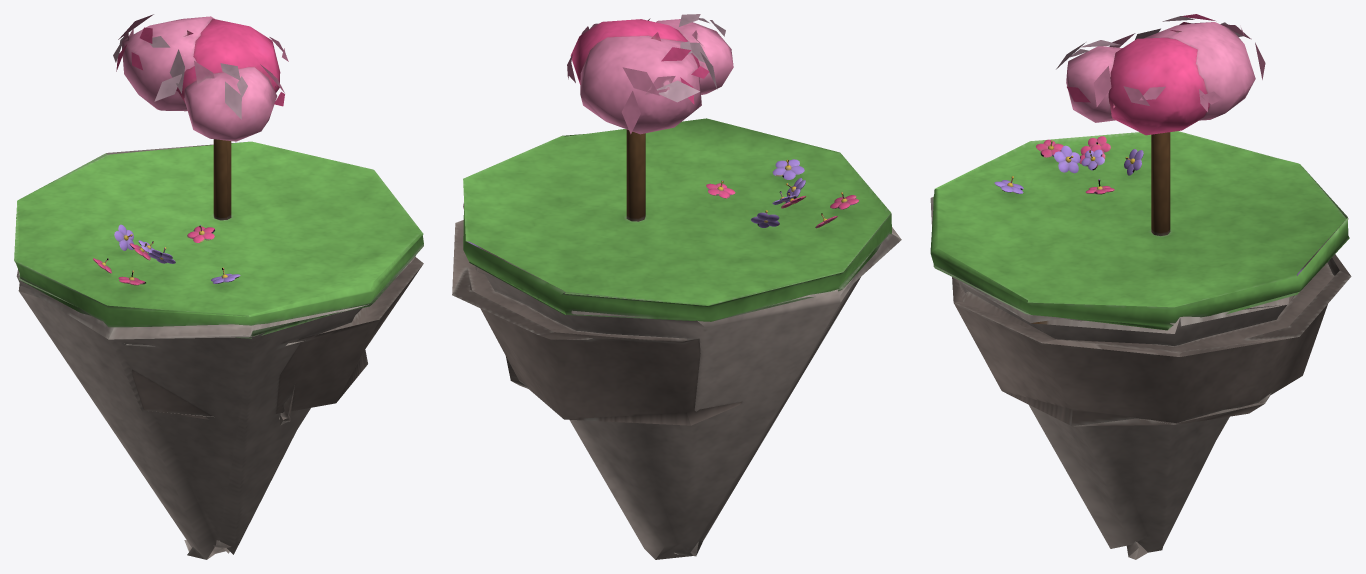
The model's file is hs_floating_island_a.glb.
3 views of the same model, side by side, from view 1: azimuth 30°, elevation 25°; view 2: azimuth 150°, elevation 25°; view 3: azimuth 270°, elevation 25° (orthographic). The views are drawn at different scales.
Parts seen in each view (by area): view 1: hs_floating_island_a; view 2: hs_floating_island_a; view 3: hs_floating_island_a.
Boxes of the visible parts, x1=… form: hs_floating_island_a: x1=14, y1=14, x2=423, y2=559; hs_floating_island_a: x1=452, y1=14, x2=901, y2=559; hs_floating_island_a: x1=930, y1=14, x2=1351, y2=559.
Bounding box in the file's own units: 8.25 × 11.02 × 8.05.
Materials: 9 (9 with a texture image).
